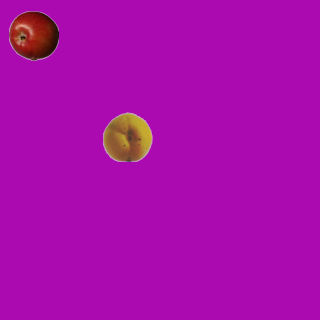Apple Braeburn: (8, 10, 58, 60)
Peach 2: (102, 111, 152, 161)
